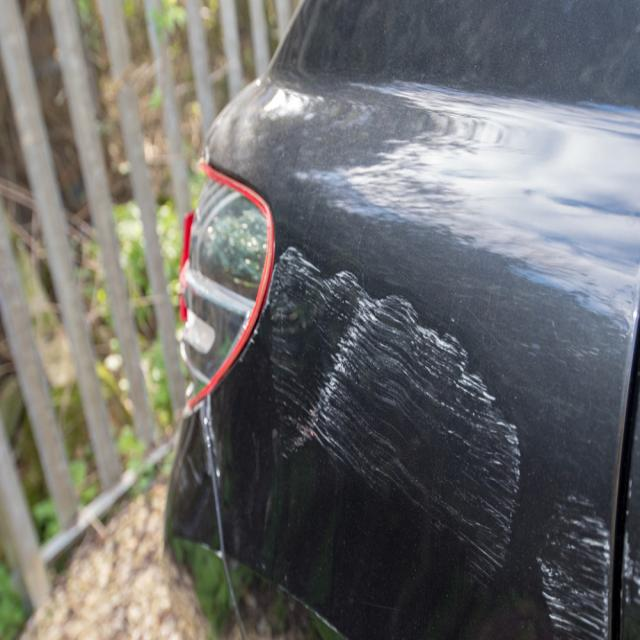Phare abime: (176, 157, 276, 405)
Rayure: (266, 236, 636, 640)
